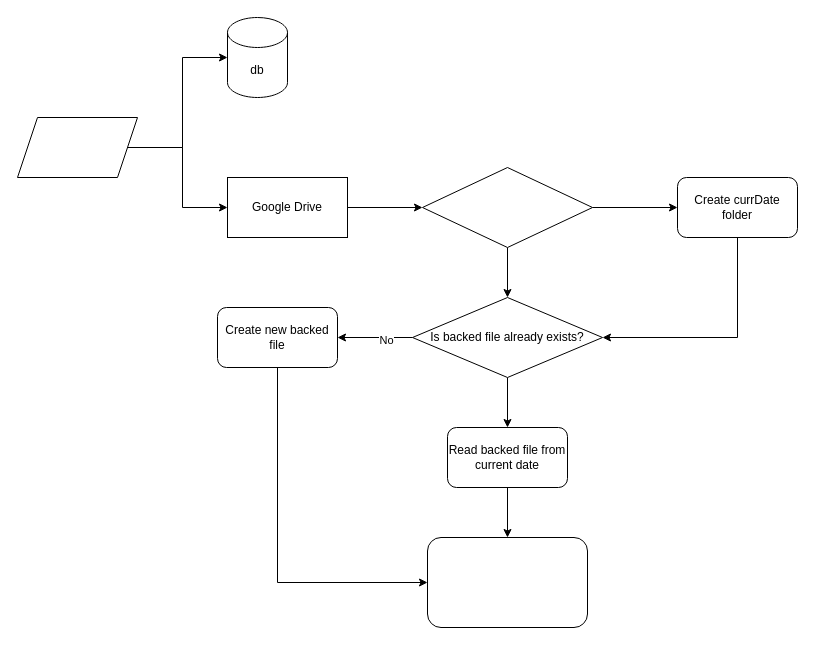
The diagram is 815 pixels wide and 645 high, and some of its shapes have lost their labels. The centre of each missing label's shape, as x and y in pixels:
"If currDate folder exists?" goes at (x=507, y=207).
"Scraped jobs" goes at (x=77, y=147).
"Upsert and write back to drive format: jobs-yyyy-mm-dd-searchTerm.csv" goes at (x=507, y=582).
